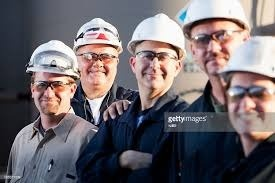helmet: (125, 12, 188, 53), (219, 35, 275, 77), (177, 1, 256, 28), (25, 38, 79, 76), (73, 17, 124, 53)
person with partial safety: (125, 11, 196, 178), (24, 38, 96, 183), (221, 36, 275, 141), (178, 1, 255, 74), (76, 16, 132, 113)
